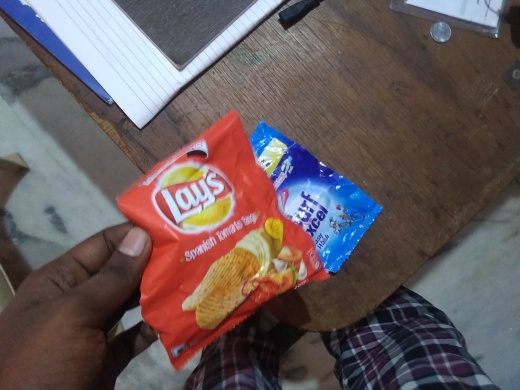lays: (93, 123, 325, 354)
surf: (235, 119, 392, 279)
